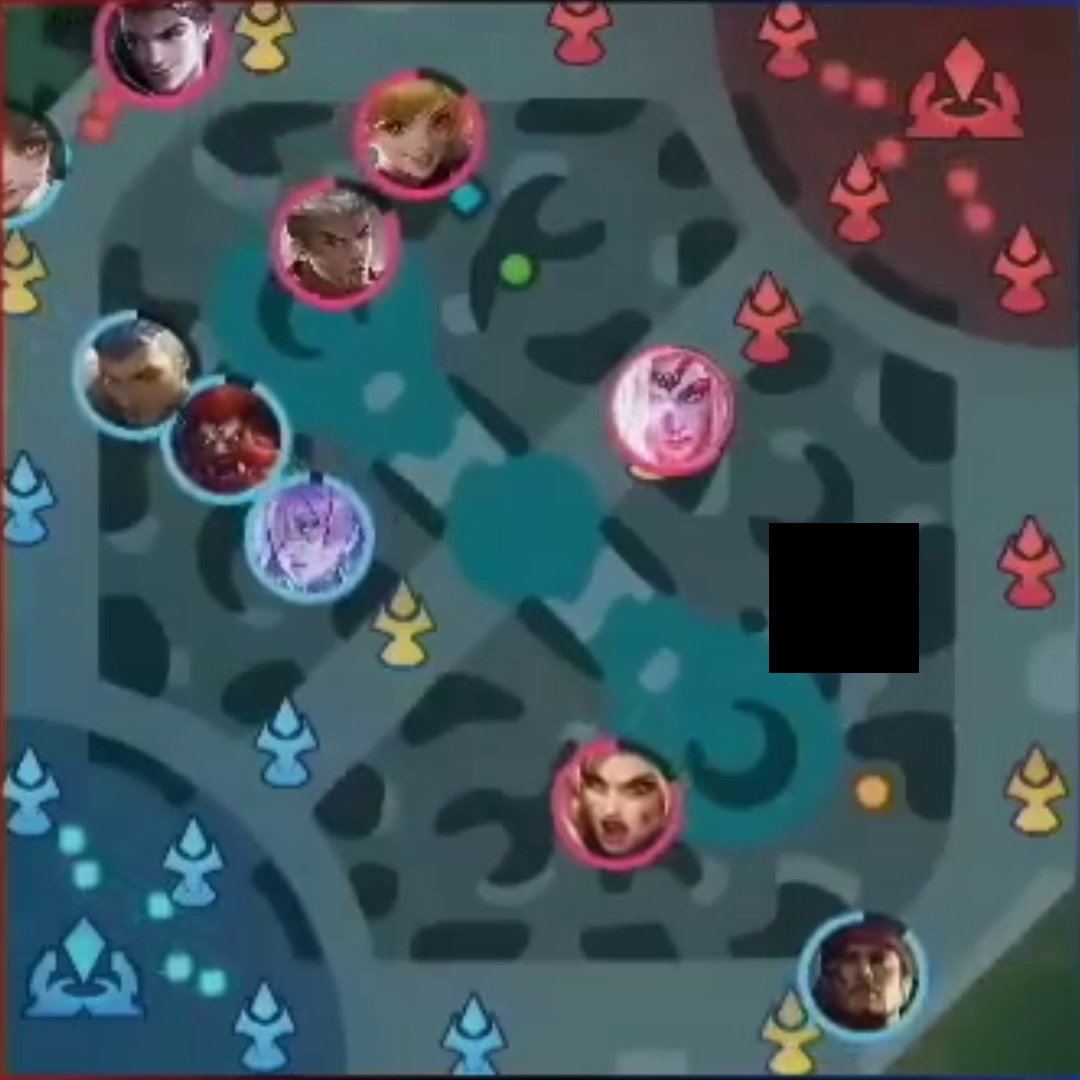Chou: (282, 187, 390, 297)
Claude: (104, 1, 218, 104)
Fanny: (359, 77, 472, 187)
Fredrinn: (78, 320, 186, 423)
Lapu-Lapu: (809, 914, 916, 1031)
Masha: (564, 750, 672, 868)
Minotaur: (182, 388, 275, 491)
Novaria: (256, 499, 358, 596)
Valentina: (622, 350, 727, 464)
Wanwan: (1, 108, 65, 225)
